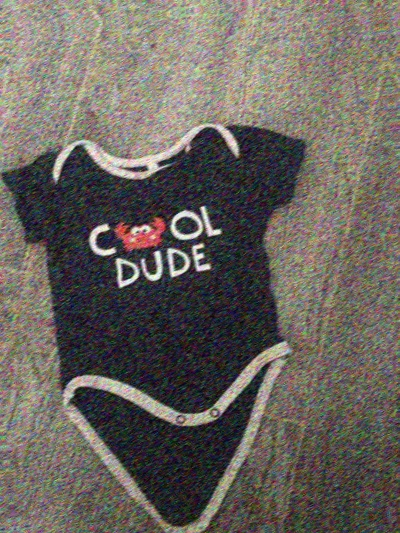Body: (0, 90, 350, 533), (42, 524, 400, 533)
